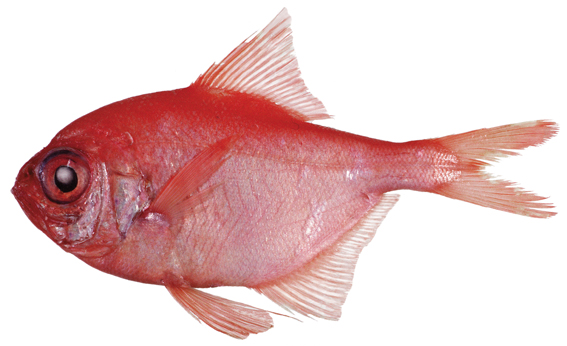fish: (12, 6, 559, 339)
